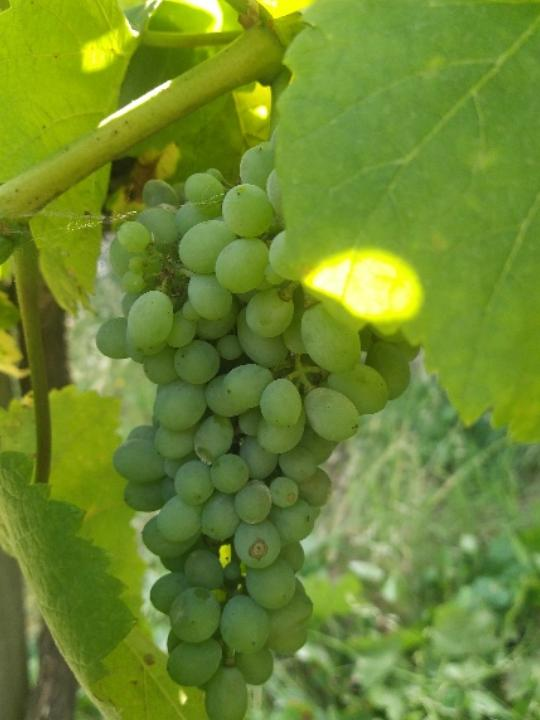grape: (90, 124, 420, 720)
